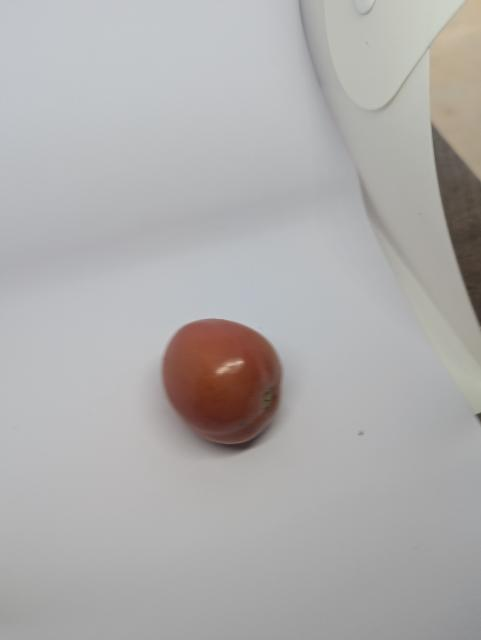red: (160, 314, 287, 450)
